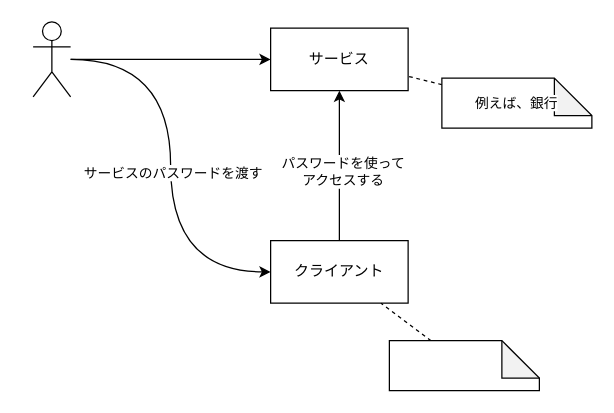
This 614x413 diagram has some shape labels left out. The shapes that lost their labels are listed below. From the top down, each one's centre as x and y in pixels, then its label:
point (51, 59): ユーザー
point (463, 365): 例えば、家計簿アプリ
